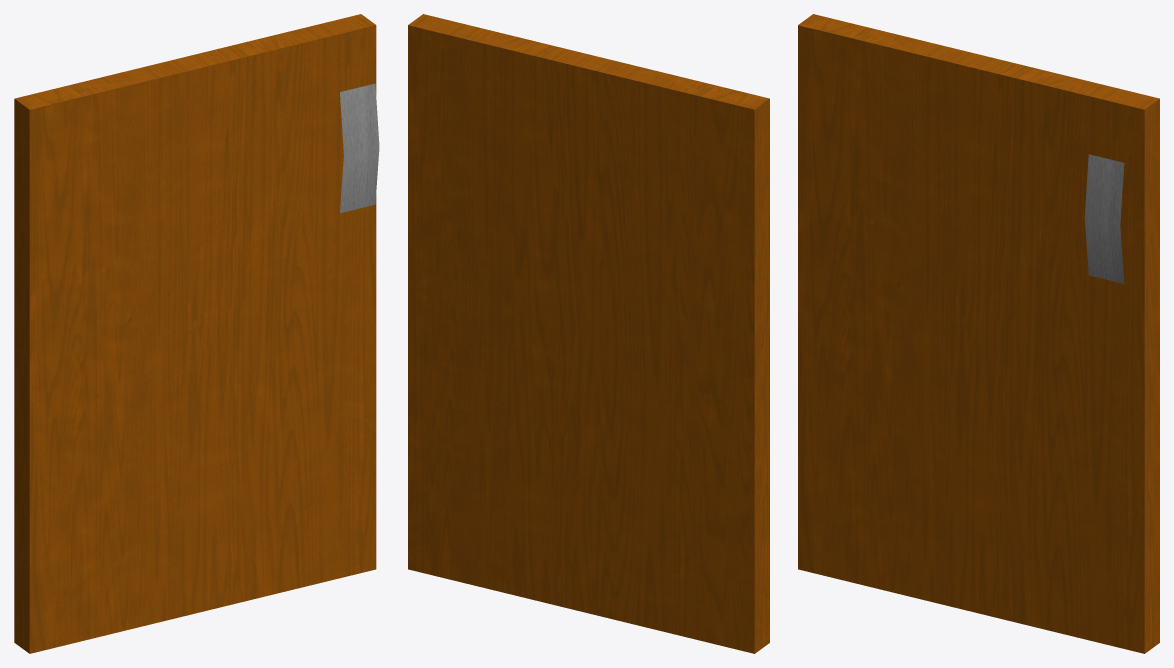
The model's file is p6_wood_cabinet_door_right_lod1.glb.
The picture shows the model from 3 angles, left to right: view 1: azimuth 30°, elevation 25°; view 2: azimuth 150°, elevation 25°; view 3: azimuth 330°, elevation 25°; orthographic projection.
Visible parts, largest first — view 1: surf1, surf0; view 2: surf1; view 3: surf1, surf0.
Boxes of the visible parts, left/top/right/bottom form: surf1: left=14, top=14, right=376, bottom=653; surf0: left=340, top=83, right=379, bottom=213; surf1: left=408, top=14, right=769, bottom=653; surf1: left=798, top=14, right=1159, bottom=653; surf0: left=1084, top=154, right=1124, bottom=283.
Bounding box in the file's own units: 19.68 × 29.53 × 2.85.
